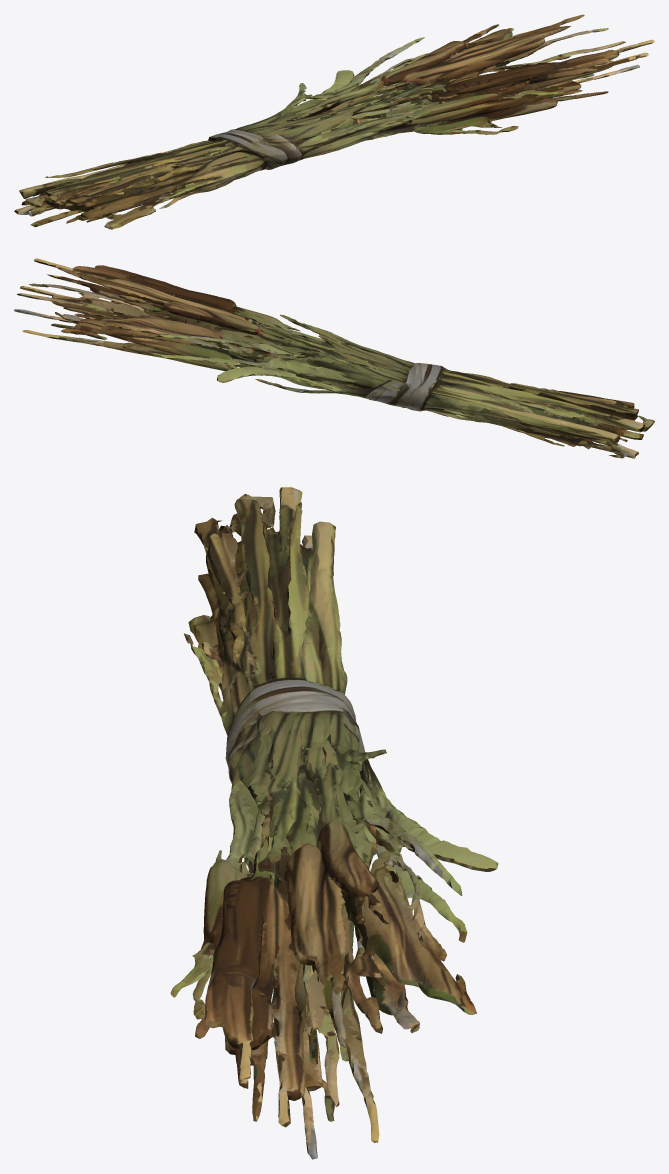
Rendered from item_reed.glb.
3 views of the same model, one above another, from view 1: azimuth 30°, elevation 25°; view 2: azimuth 150°, elevation 25°; view 3: azimuth 270°, elevation 25° (orthographic). The views are drawn at different scales.
Visible parts, largest first — view 1: item_reed; view 2: item_reed; view 3: item_reed.
Boxes of the visible parts, bbox=[...] form: item_reed: bbox=[14, 14, 654, 229]; item_reed: bbox=[14, 258, 654, 458]; item_reed: bbox=[170, 487, 498, 1159].
Bounding box in the file's own units: 0.6 × 0.0597 × 0.1365.
1 material, 1 textured.
